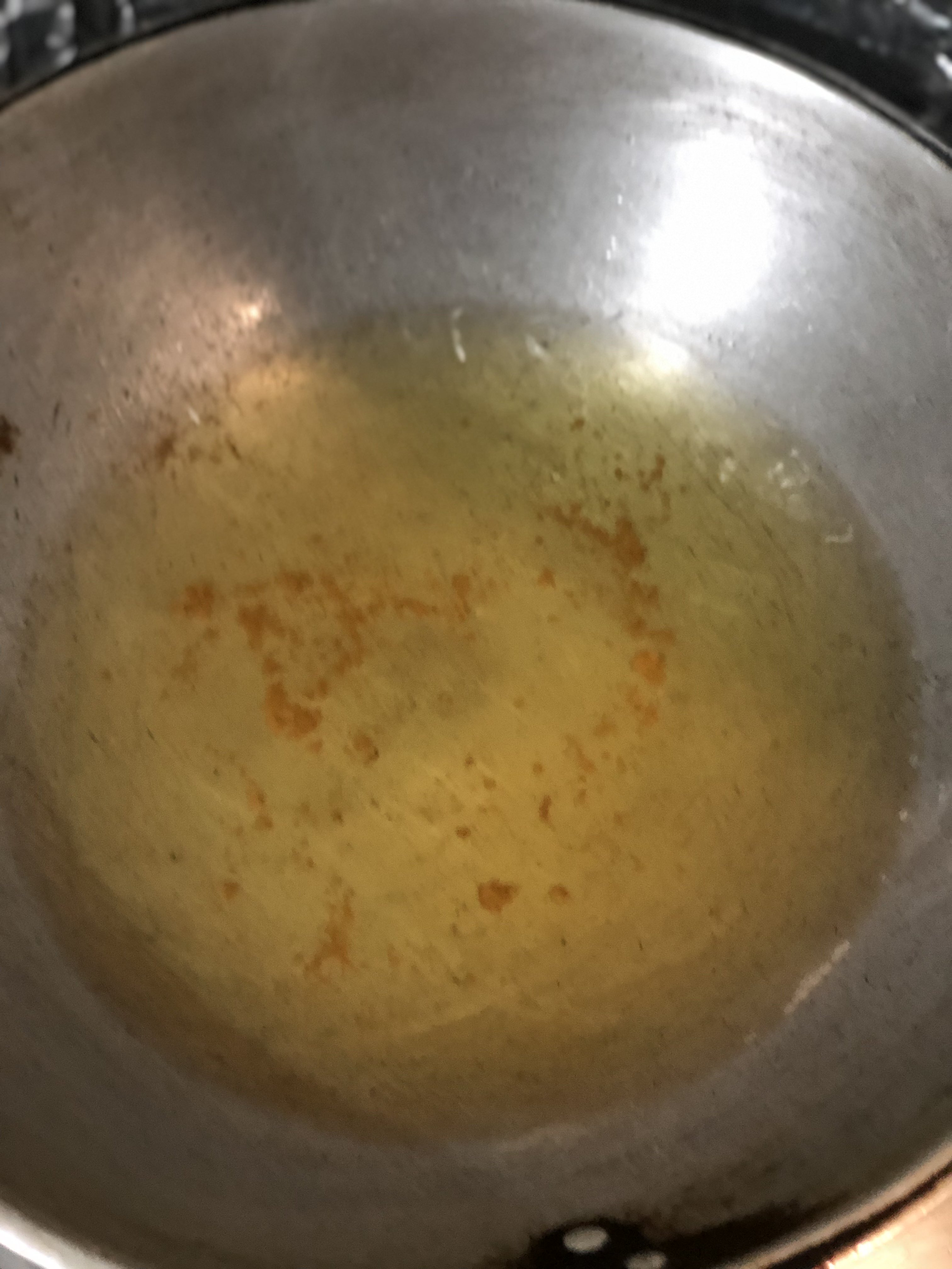reusable: (16, 308, 907, 1124)
